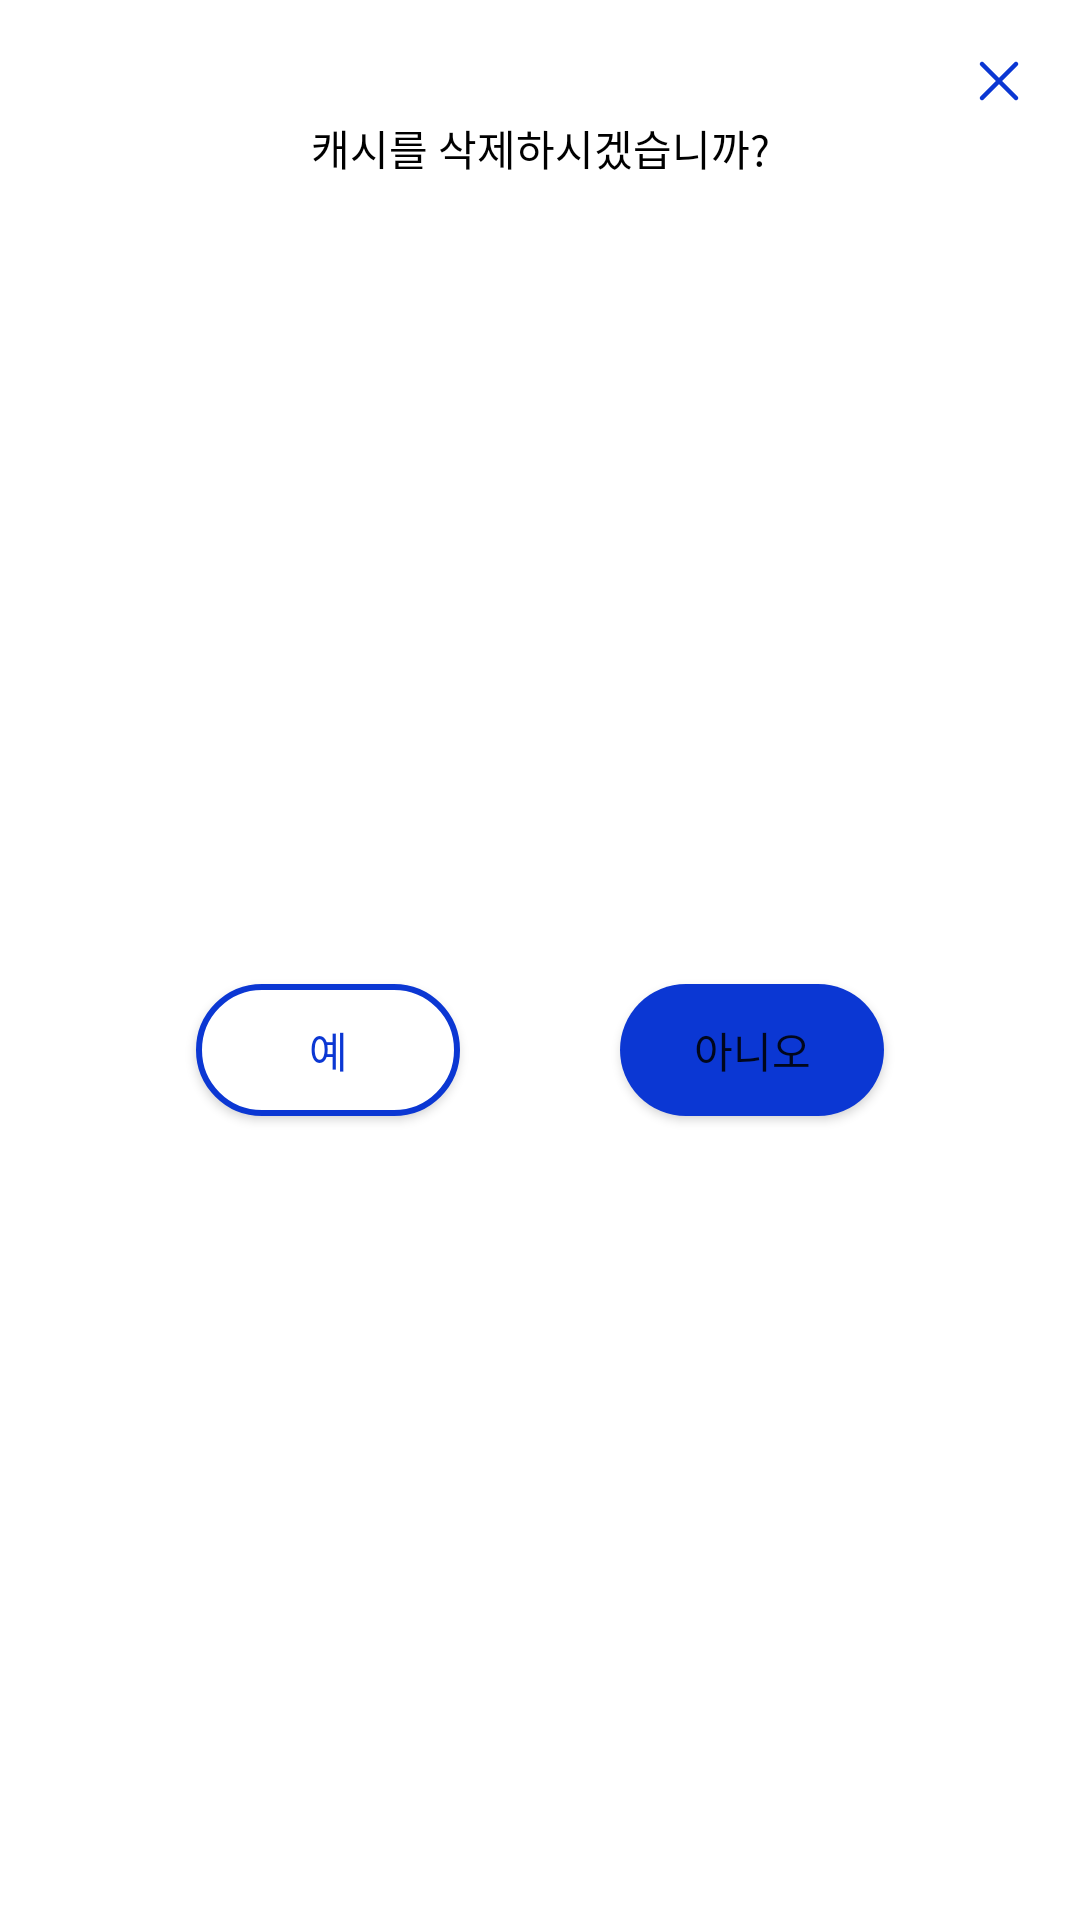

Where to tap for icons on this 1080×1920 app screen, as point (x, y):
close: point (999, 81)
